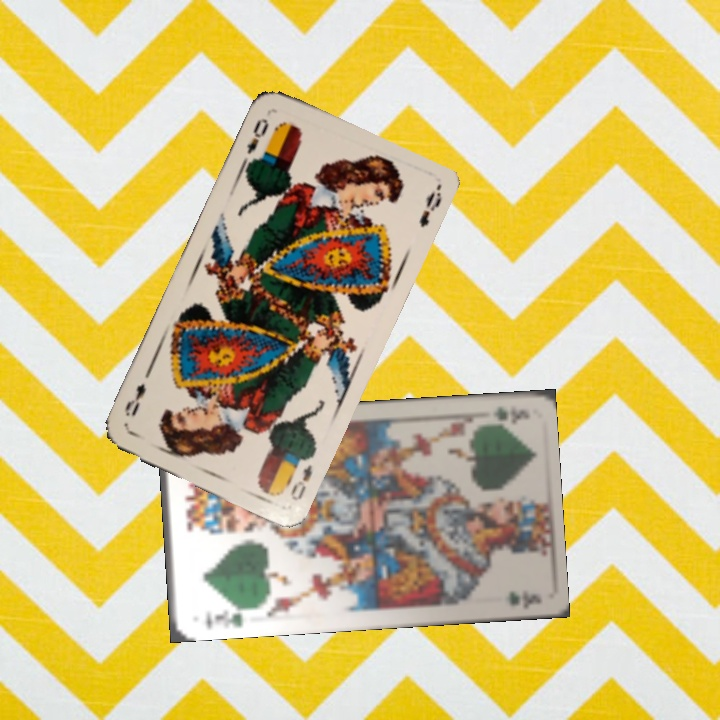EO: (242, 114, 272, 157), (286, 460, 315, 504)
GK: (202, 603, 252, 632), (489, 402, 531, 426)
